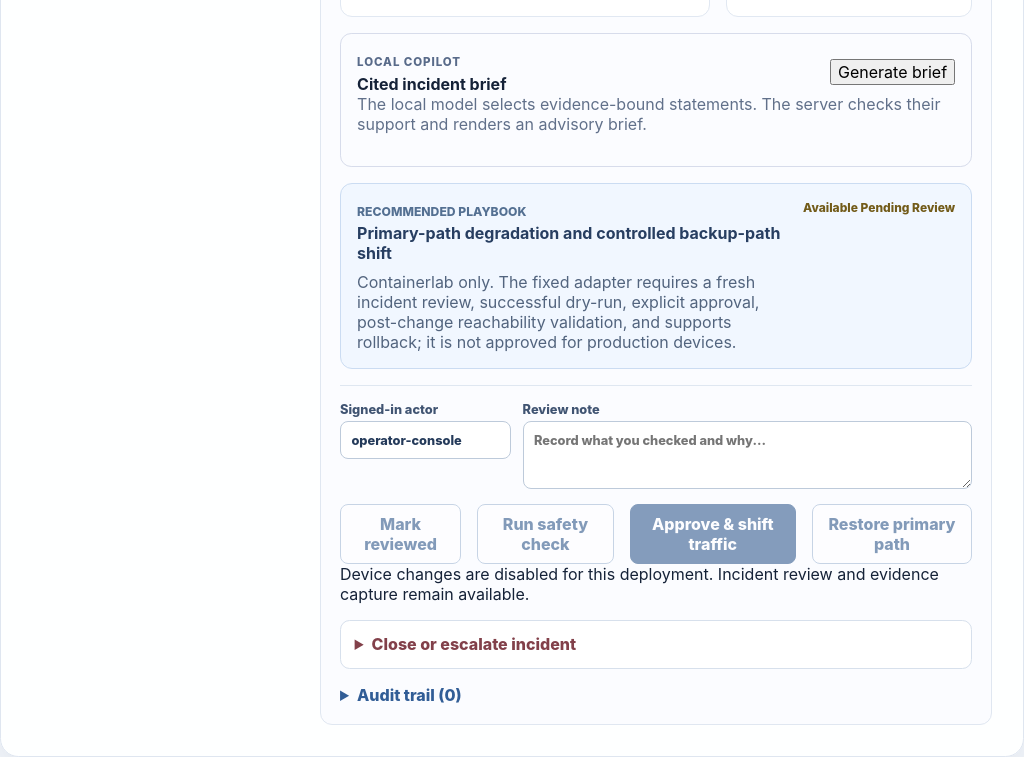
Test: disables device controls when the server has no configured adapter
(page scrolled)
In the text box labelled "Review note": (747, 455) [522,421,972,489], type "Checked live path evidence."
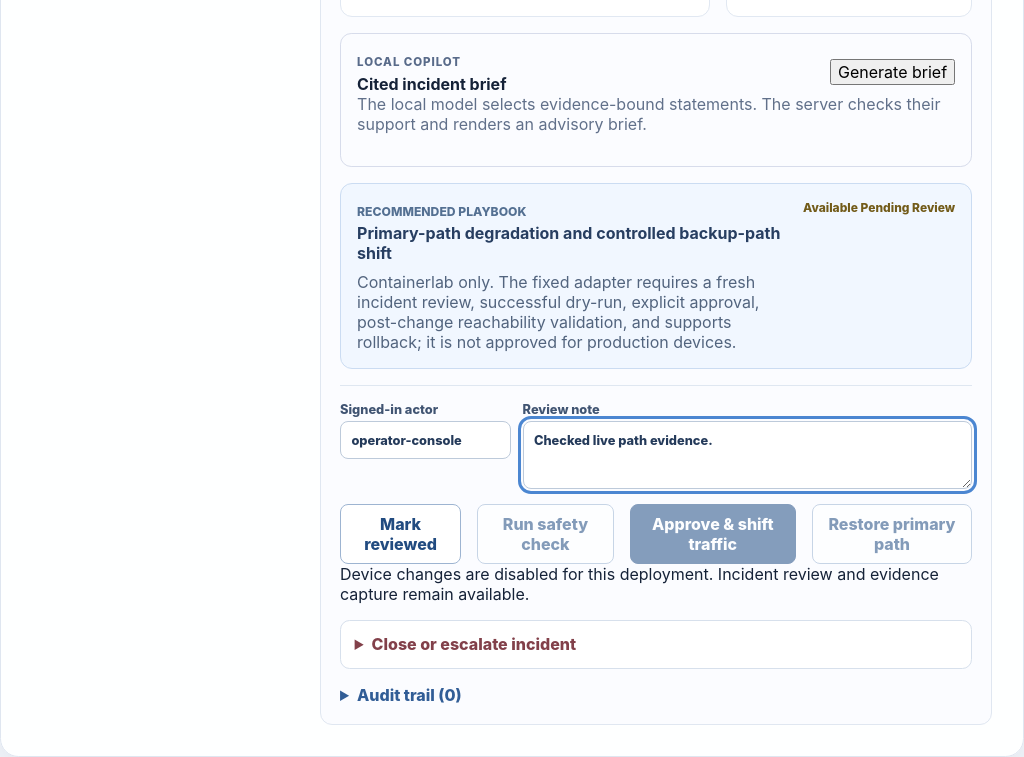
Expected: the button "Run safety check" is disabled, [477,504,614,564]
Now the button "Mark reviewed" is enabled, box [340,504,461,564]
